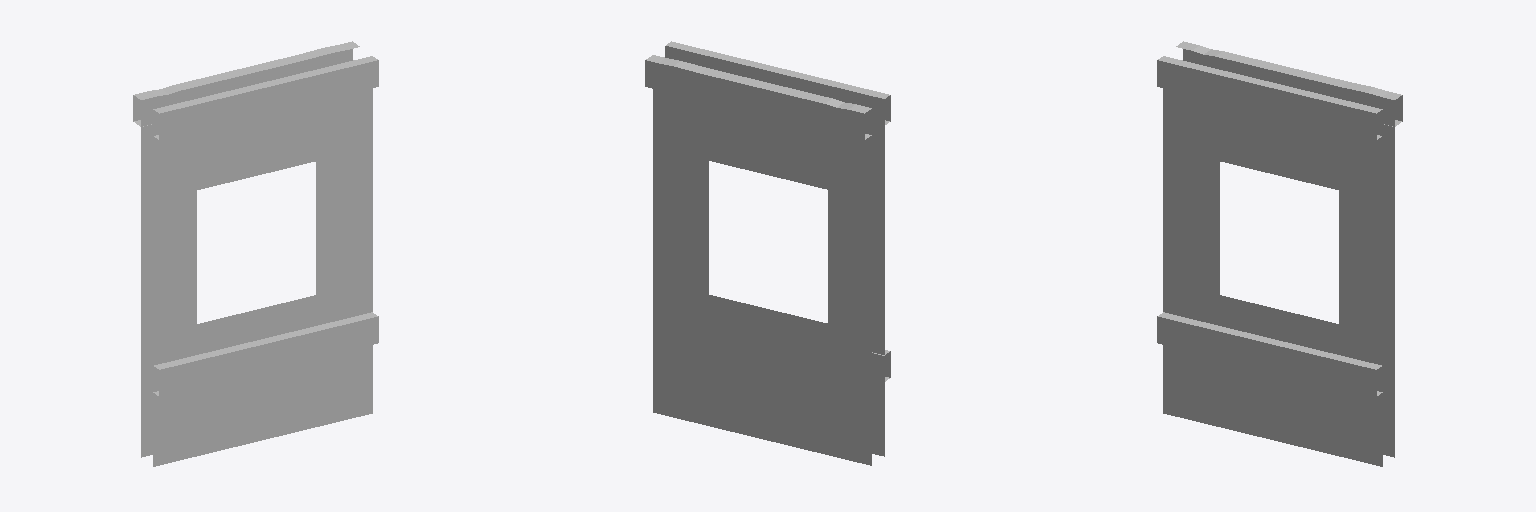
File: Wall_Plaster_Window_Wide_Flat.obj
3 views of the same model, side by side, from view 1: azimuth 30°, elevation 25°; view 2: azimuth 150°, elevation 25°; view 3: azimuth 330°, elevation 25° (orthographic).
Visible parts, largest first — view 1: Wall_Plaster_Window_Wide_Flat; view 2: Wall_Plaster_Window_Wide_Flat; view 3: Wall_Plaster_Window_Wide_Flat.
Part boxes in pixels (left/top/right/bottom): Wall_Plaster_Window_Wide_Flat: left=133, top=41, right=378, bottom=466; Wall_Plaster_Window_Wide_Flat: left=645, top=41, right=890, bottom=465; Wall_Plaster_Window_Wide_Flat: left=1157, top=41, right=1402, bottom=466.
Bounding box in the file's own units: 2 × 3.12 × 0.4065.